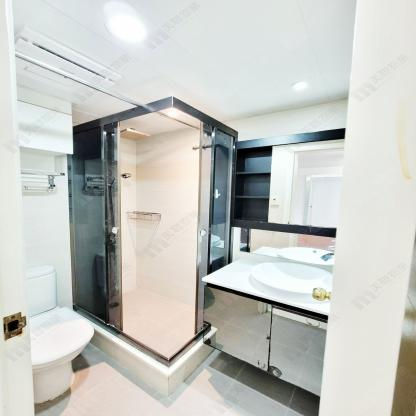Toilet: (19, 264, 96, 403)
Toilet Sink: (249, 260, 338, 300)
Water Cubicle: (70, 96, 239, 398)
